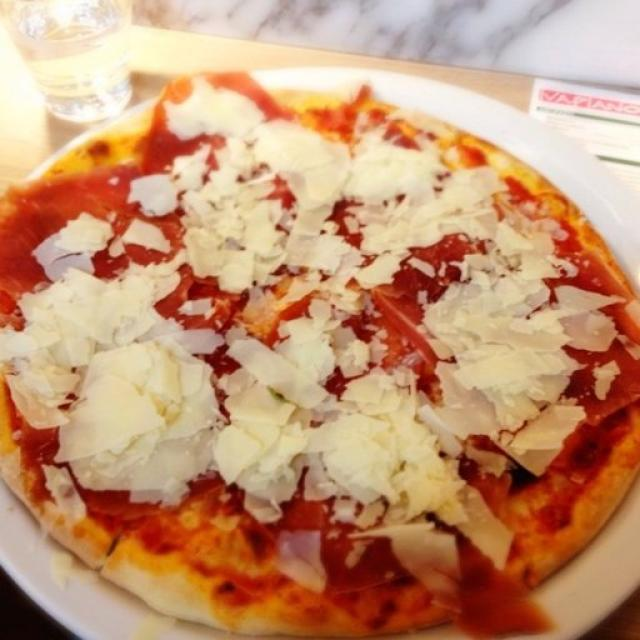Cheese: (171, 93, 392, 279), (17, 296, 216, 501), (235, 348, 424, 506), (432, 284, 582, 466), (404, 152, 571, 278), (375, 513, 515, 567), (32, 212, 113, 280), (274, 531, 326, 589), (292, 299, 353, 341), (584, 292, 619, 352), (121, 266, 178, 299), (128, 218, 174, 256), (130, 176, 172, 214), (593, 359, 617, 401)
Pizza: (0, 72, 640, 633)
